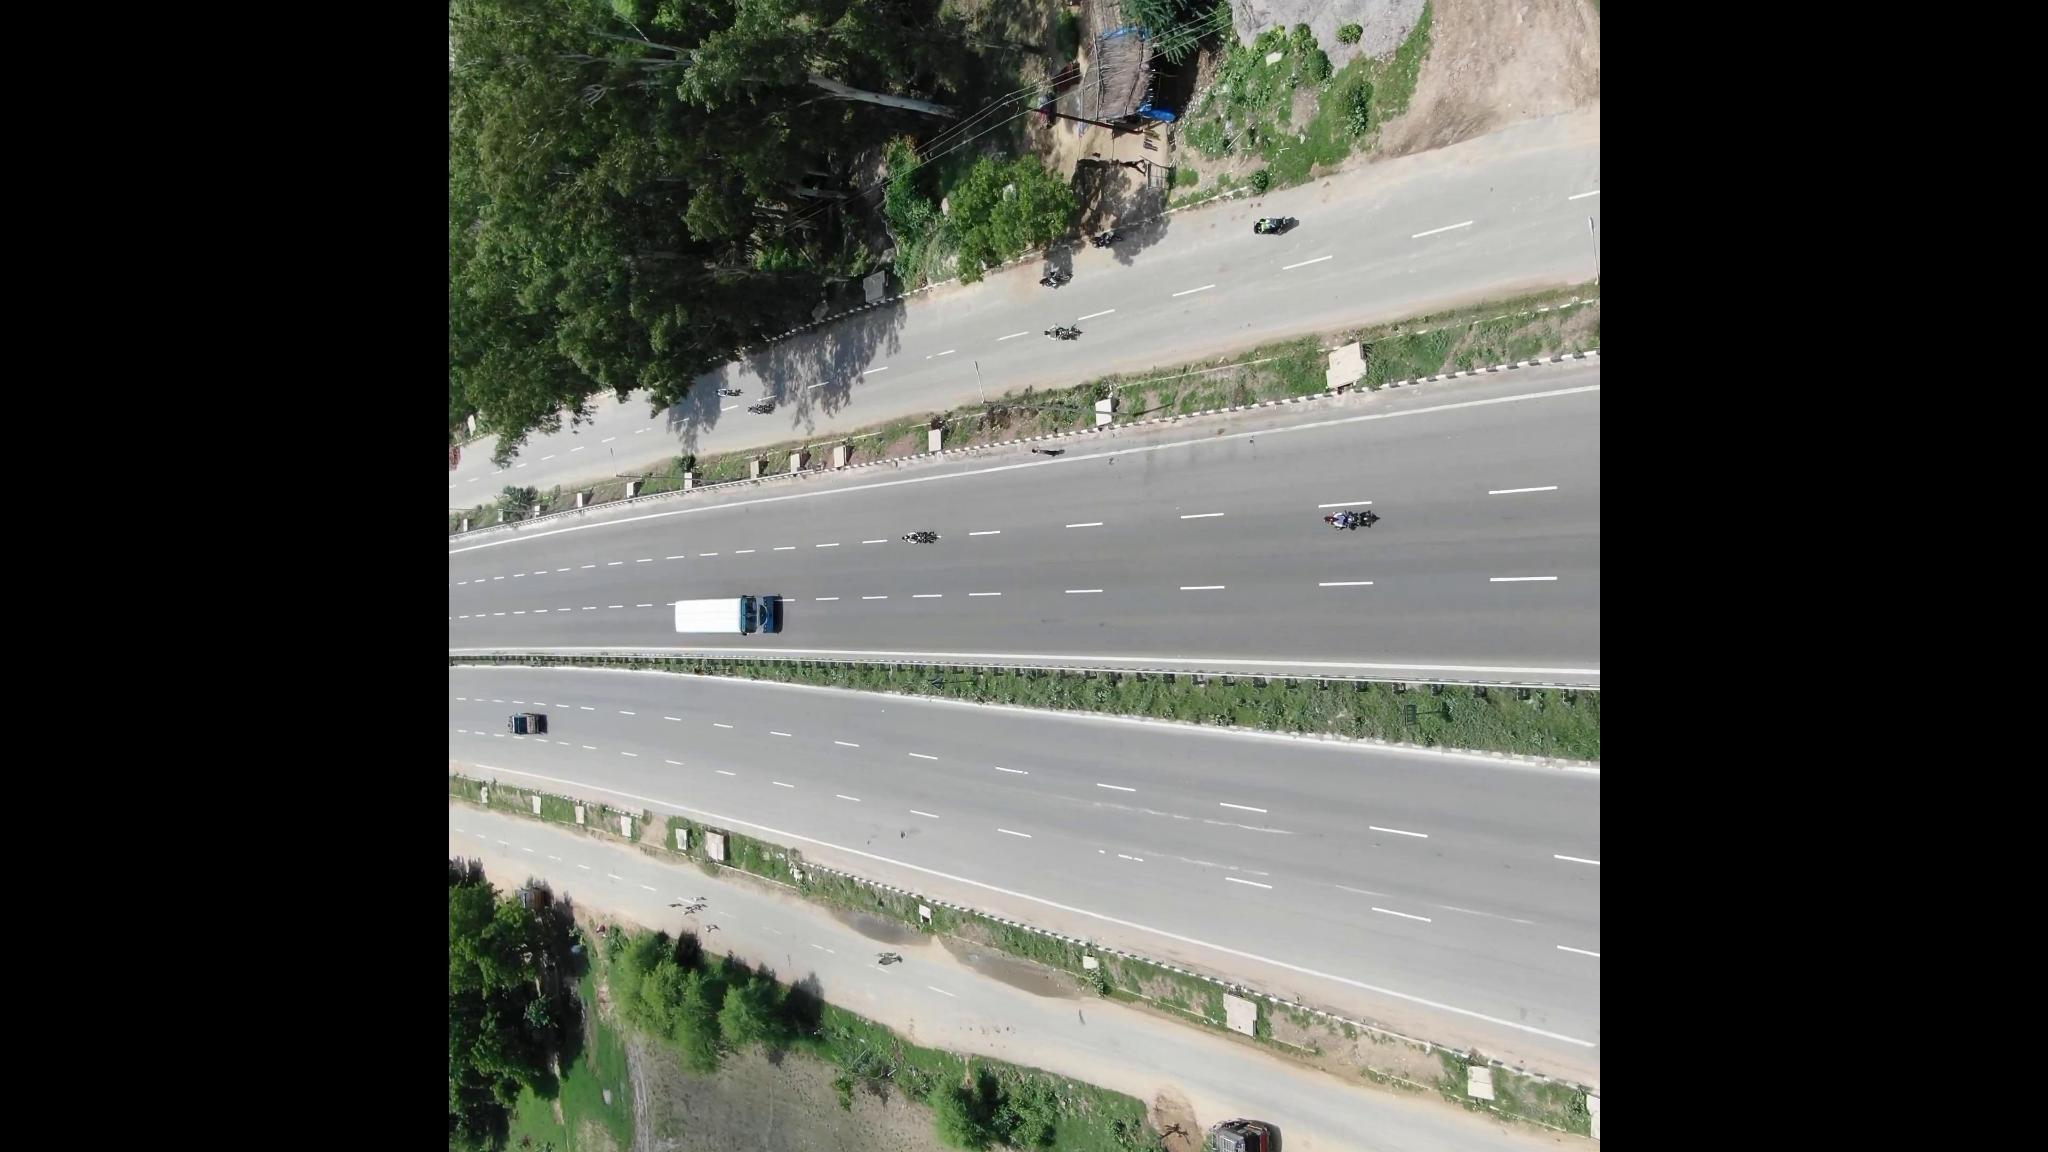Cracks: (1101, 805, 1300, 838)
